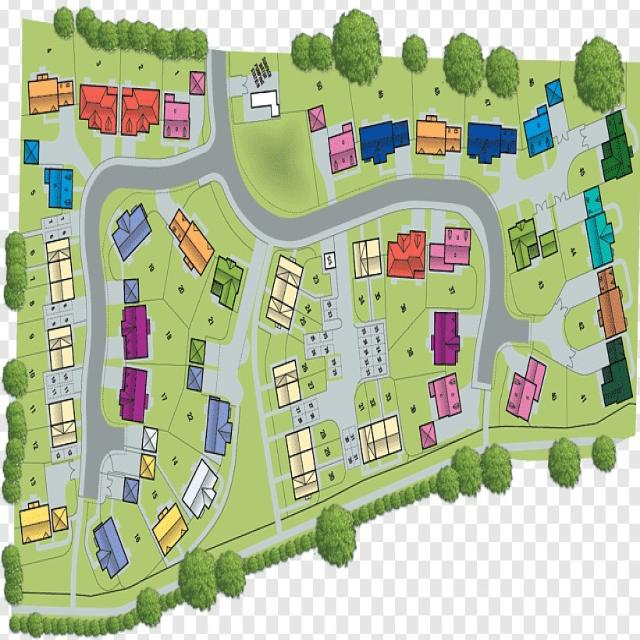greenish: (244, 122, 311, 195), (22, 18, 74, 75), (238, 411, 261, 526), (281, 67, 346, 105), (354, 81, 412, 116), (76, 42, 120, 85), (23, 558, 74, 595), (148, 364, 175, 424), (415, 78, 457, 114), (137, 242, 167, 290), (127, 510, 153, 565), (426, 276, 477, 304), (177, 394, 205, 444), (122, 52, 163, 86), (21, 167, 43, 230), (430, 276, 474, 307), (518, 270, 558, 304), (153, 310, 179, 362), (468, 92, 515, 120), (208, 212, 248, 244), (17, 462, 48, 498), (566, 229, 590, 275), (388, 284, 419, 319), (400, 383, 429, 420), (170, 183, 222, 203), (569, 311, 596, 349), (396, 340, 428, 371), (196, 298, 222, 336), (22, 358, 51, 392), (521, 66, 545, 107), (22, 430, 52, 462), (101, 213, 115, 280), (142, 478, 168, 514), (622, 209, 639, 264), (17, 291, 49, 320), (564, 64, 580, 122), (170, 268, 191, 312), (568, 159, 600, 187), (489, 430, 563, 442), (78, 551, 99, 592), (574, 378, 594, 421), (17, 327, 47, 355), (412, 155, 448, 178), (22, 396, 49, 426), (546, 374, 562, 424), (269, 437, 289, 477), (107, 191, 158, 206), (166, 60, 190, 90), (494, 350, 512, 389), (240, 363, 255, 408), (628, 68, 640, 123), (604, 184, 638, 203), (256, 328, 267, 386), (101, 388, 118, 425), (610, 412, 634, 438), (371, 276, 385, 320), (138, 141, 172, 159), (103, 298, 121, 332), (383, 213, 412, 234), (389, 323, 432, 337), (26, 236, 46, 264), (380, 57, 403, 81), (354, 283, 368, 322), (336, 175, 362, 196), (365, 165, 397, 182), (307, 264, 325, 294), (275, 480, 293, 510), (518, 152, 538, 178), (471, 235, 485, 272), (264, 414, 294, 431), (402, 424, 418, 455), (150, 213, 168, 240), (228, 53, 251, 74), (73, 324, 85, 364), (85, 134, 102, 162), (66, 479, 78, 517), (500, 203, 518, 228), (26, 268, 52, 285), (18, 539, 37, 562), (298, 356, 321, 375), (271, 332, 287, 359), (302, 376, 326, 394), (617, 266, 629, 301), (116, 571, 148, 584), (23, 118, 45, 136), (216, 516, 234, 538), (314, 173, 326, 206), (232, 97, 246, 125), (82, 496, 95, 526), (461, 343, 471, 381), (462, 158, 479, 180), (317, 447, 341, 462), (532, 342, 550, 362), (502, 231, 510, 276), (295, 314, 319, 329), (70, 243, 83, 270), (315, 427, 338, 442), (628, 309, 637, 346), (298, 243, 320, 258), (270, 54, 293, 68), (370, 385, 380, 417), (289, 332, 301, 358), (384, 383, 395, 411), (491, 390, 500, 424), (486, 174, 501, 194), (324, 470, 342, 486), (262, 391, 278, 409), (46, 123, 60, 142), (74, 164, 86, 186), (73, 276, 86, 296), (301, 300, 319, 314), (364, 220, 378, 238), (521, 197, 535, 215), (345, 470, 364, 483), (114, 134, 124, 158), (103, 357, 124, 368), (630, 267, 639, 292), (356, 390, 364, 418), (346, 226, 362, 240), (22, 80, 28, 115), (74, 397, 82, 420), (548, 150, 558, 167), (73, 192, 80, 210)
